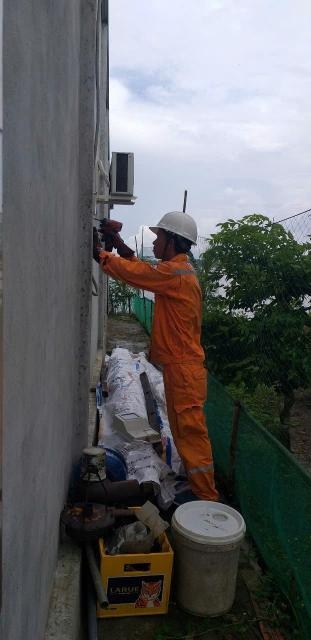gloves: (101, 210, 149, 266), (73, 224, 118, 266)
helmet: (146, 205, 203, 247)
